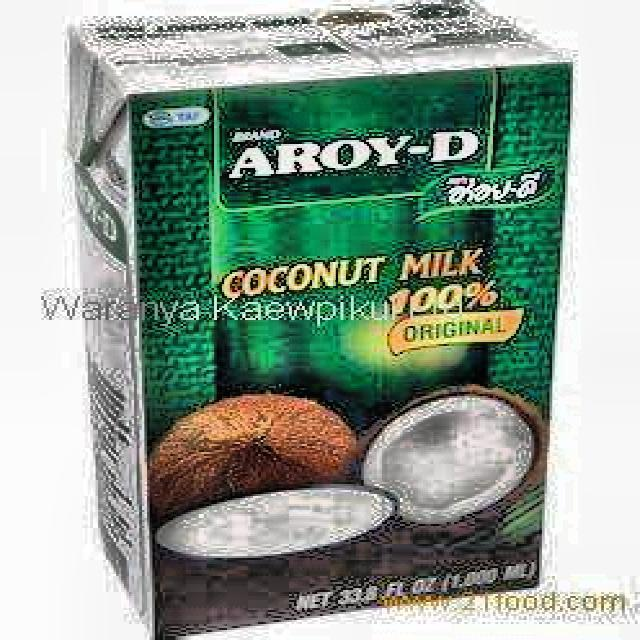cardboard: (64, 0, 576, 638)
